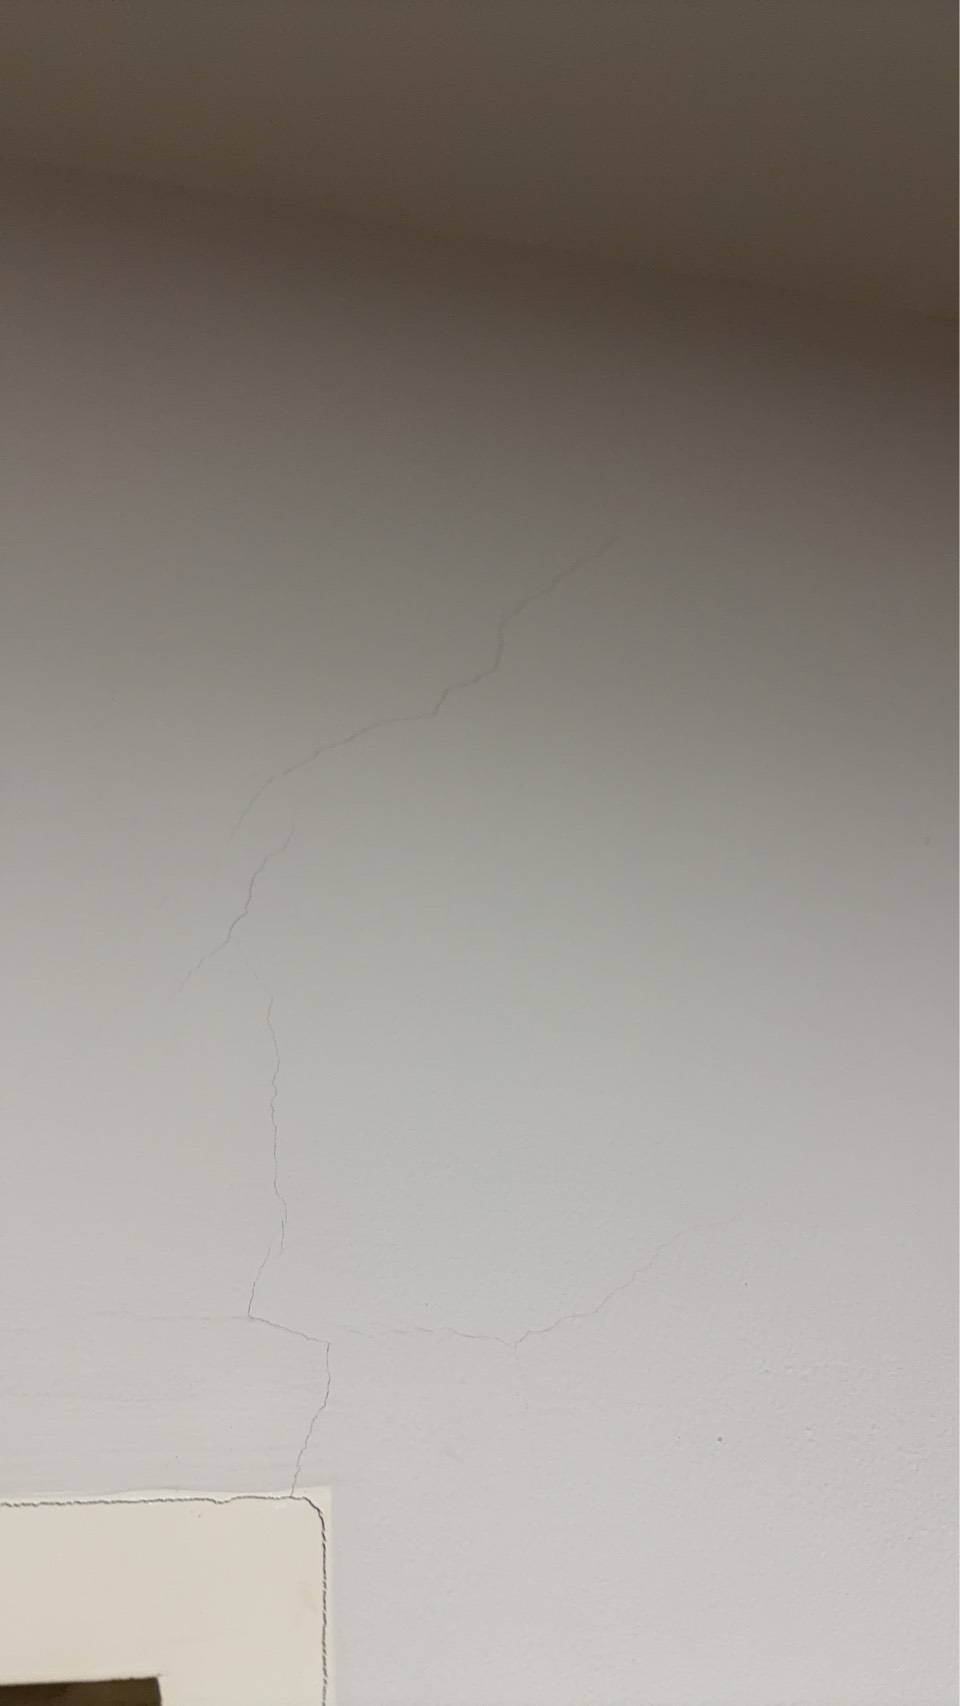Low: (52, 325, 926, 1507)
